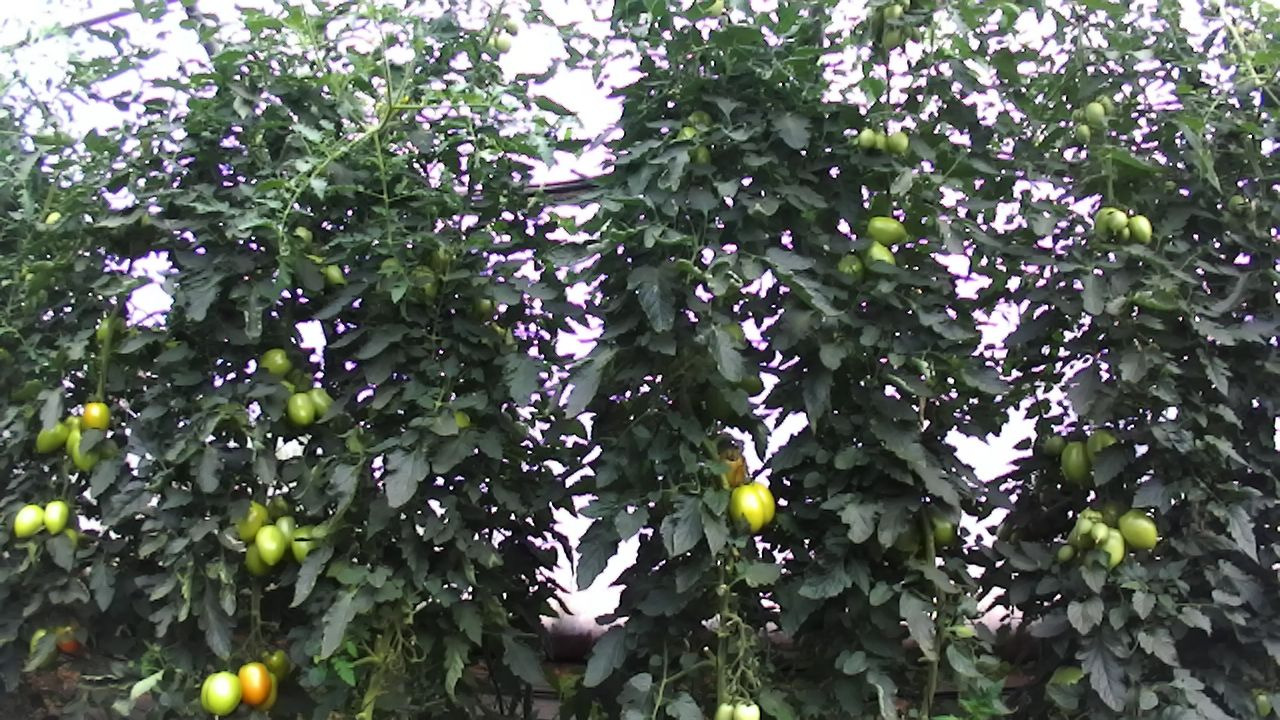tomato: (198, 669, 243, 717), (727, 483, 766, 536), (1116, 506, 1159, 553), (230, 497, 269, 547), (235, 659, 273, 709), (864, 212, 909, 248), (252, 523, 288, 568), (1059, 438, 1092, 485), (69, 436, 104, 475), (288, 522, 319, 566), (258, 344, 295, 379), (12, 501, 46, 539), (34, 420, 70, 455), (261, 645, 293, 683), (285, 390, 317, 428), (41, 498, 70, 537), (303, 385, 335, 417), (1126, 213, 1155, 248), (273, 510, 298, 550), (80, 399, 110, 431), (731, 699, 762, 720), (1084, 99, 1106, 128), (887, 129, 910, 155), (1042, 434, 1066, 458), (1106, 209, 1128, 235), (1089, 520, 1111, 546), (711, 700, 736, 720), (1074, 516, 1092, 540), (1074, 122, 1093, 144)
